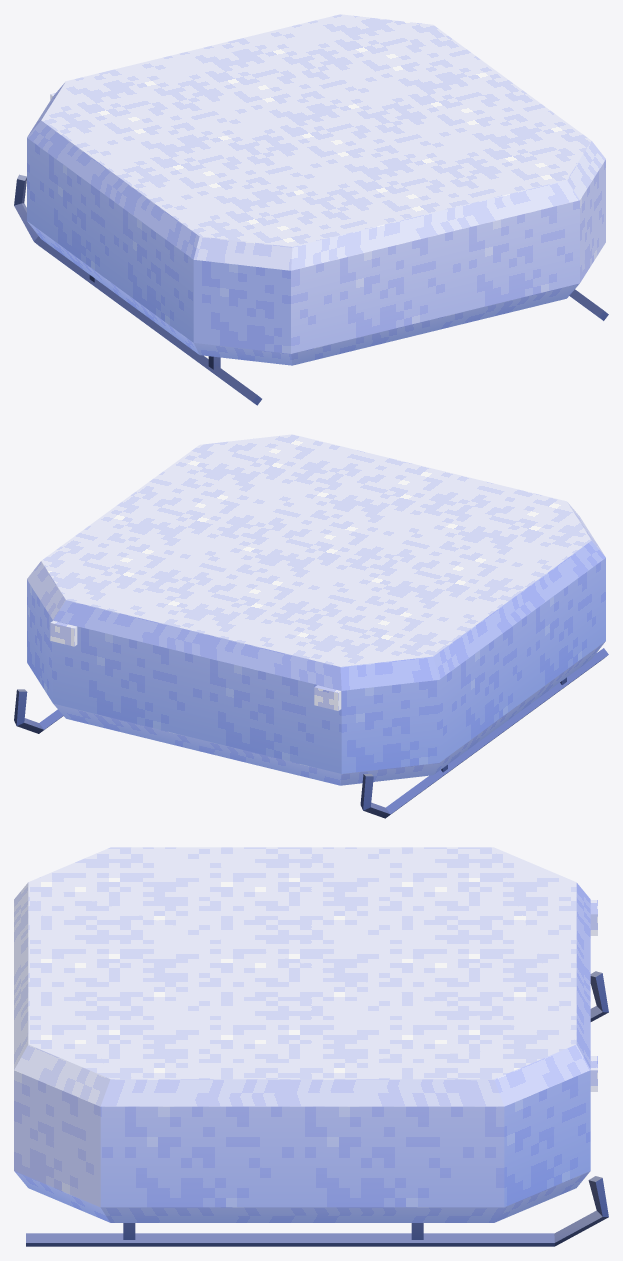
File: vehicle.craft__snow_sled.glb
3 renders of one model, top to bottom at view 1: azimuth 30°, elevation 25°; view 2: azimuth 150°, elevation 25°; view 3: azimuth 270°, elevation 25°, orthographic. The views are drawn at different scales.
Parts seen in each view (by area): view 1: kit_craft_body, kit_craft_detail; view 2: kit_craft_body, kit_craft_detail, kit_craft_lights; view 3: kit_craft_body, kit_craft_detail, kit_craft_lights.
Boxes of the visible parts, x1,y1,x2,y2 form: kit_craft_body: [27, 14, 605, 365]; kit_craft_detail: [14, 174, 608, 405]; kit_craft_body: [27, 434, 605, 785]; kit_craft_detail: [14, 648, 608, 818]; kit_craft_lights: [50, 620, 341, 710]; kit_craft_body: [14, 847, 590, 1222]; kit_craft_detail: [26, 971, 608, 1246]; kit_craft_lights: [590, 900, 597, 1091].
Bounding box in the file's own units: 2.4 × 0.83 × 2.48.
3 materials, 2 textured.
